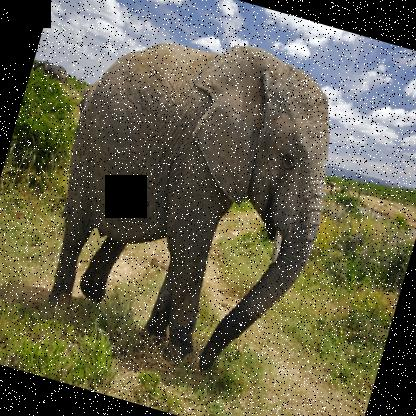Elephas-maximus: (17, 3, 364, 392)
